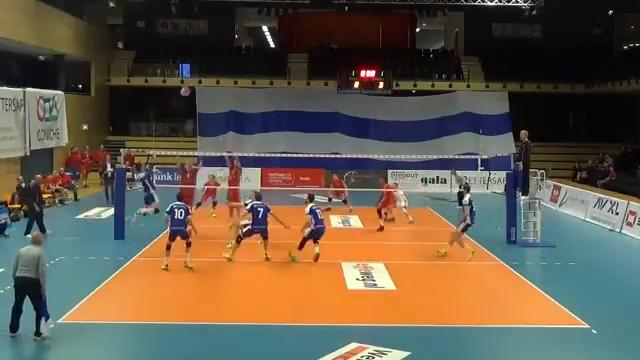Attack: (125, 155, 161, 228)
Block: (172, 149, 206, 213), (220, 148, 245, 214)
Player: (224, 191, 288, 260), (437, 183, 475, 260), (161, 192, 196, 269), (289, 193, 324, 261), (195, 174, 219, 216), (325, 173, 351, 211), (376, 178, 394, 231), (393, 182, 413, 223)
ball: (180, 86, 190, 97)
